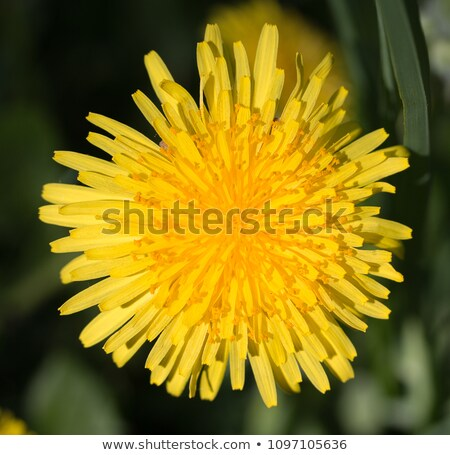dandelion: (44, 72, 415, 405)
